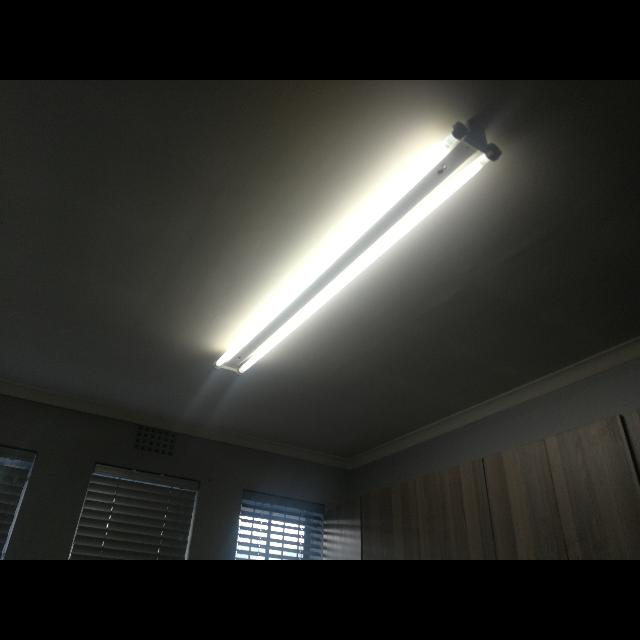Straight-Tube-Fluorescent-Lamp: (209, 118, 505, 382)
